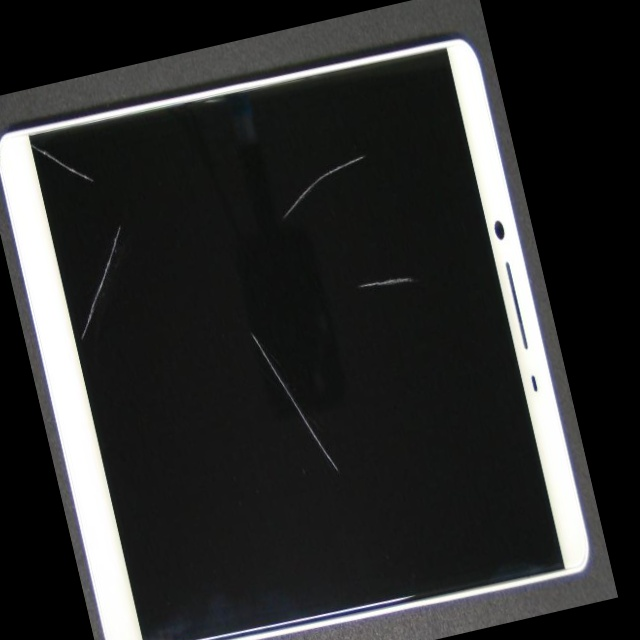scratch: (227, 114, 561, 416), (220, 329, 505, 640), (212, 27, 515, 255), (38, 156, 165, 263)
